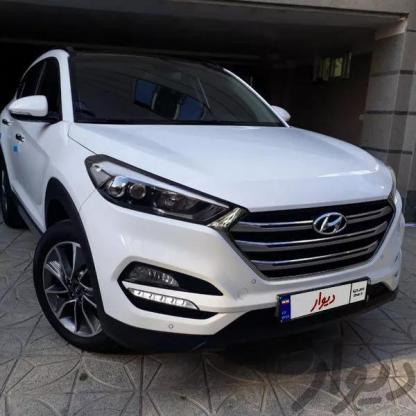Car: (0, 47, 406, 352)
